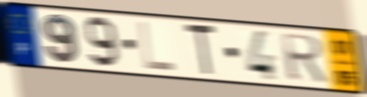4: (242, 28, 281, 83)
9: (40, 12, 81, 67), (84, 16, 121, 69)
L: (137, 20, 178, 73)
R: (279, 32, 330, 84)
T: (183, 21, 218, 79)
